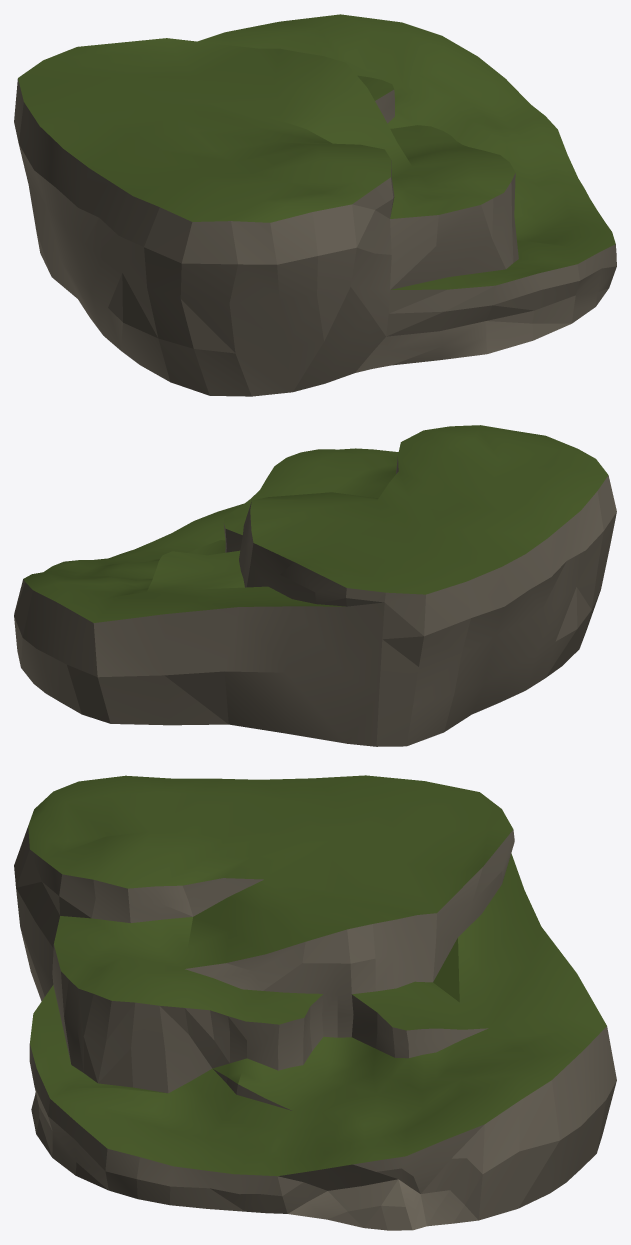
File: medieval_fantasy_-_large_island.glb
3 views of the same model, one above another, from view 1: azimuth 30°, elevation 25°; view 2: azimuth 150°, elevation 25°; view 3: azimuth 270°, elevation 25° (orthographic). The views are drawn at different scales.
Visible parts, largest first — view 1: mff_island_large; view 2: mff_island_large; view 3: mff_island_large.
Part boxes in pixels (box(x1,y1,x2,y2)): mff_island_large: box(14, 14, 616, 396); mff_island_large: box(14, 425, 616, 746); mff_island_large: box(14, 775, 616, 1230).
Size of the model in its own units: 33.34 by 11.85 by 31.29.
1 material, 1 textured.
